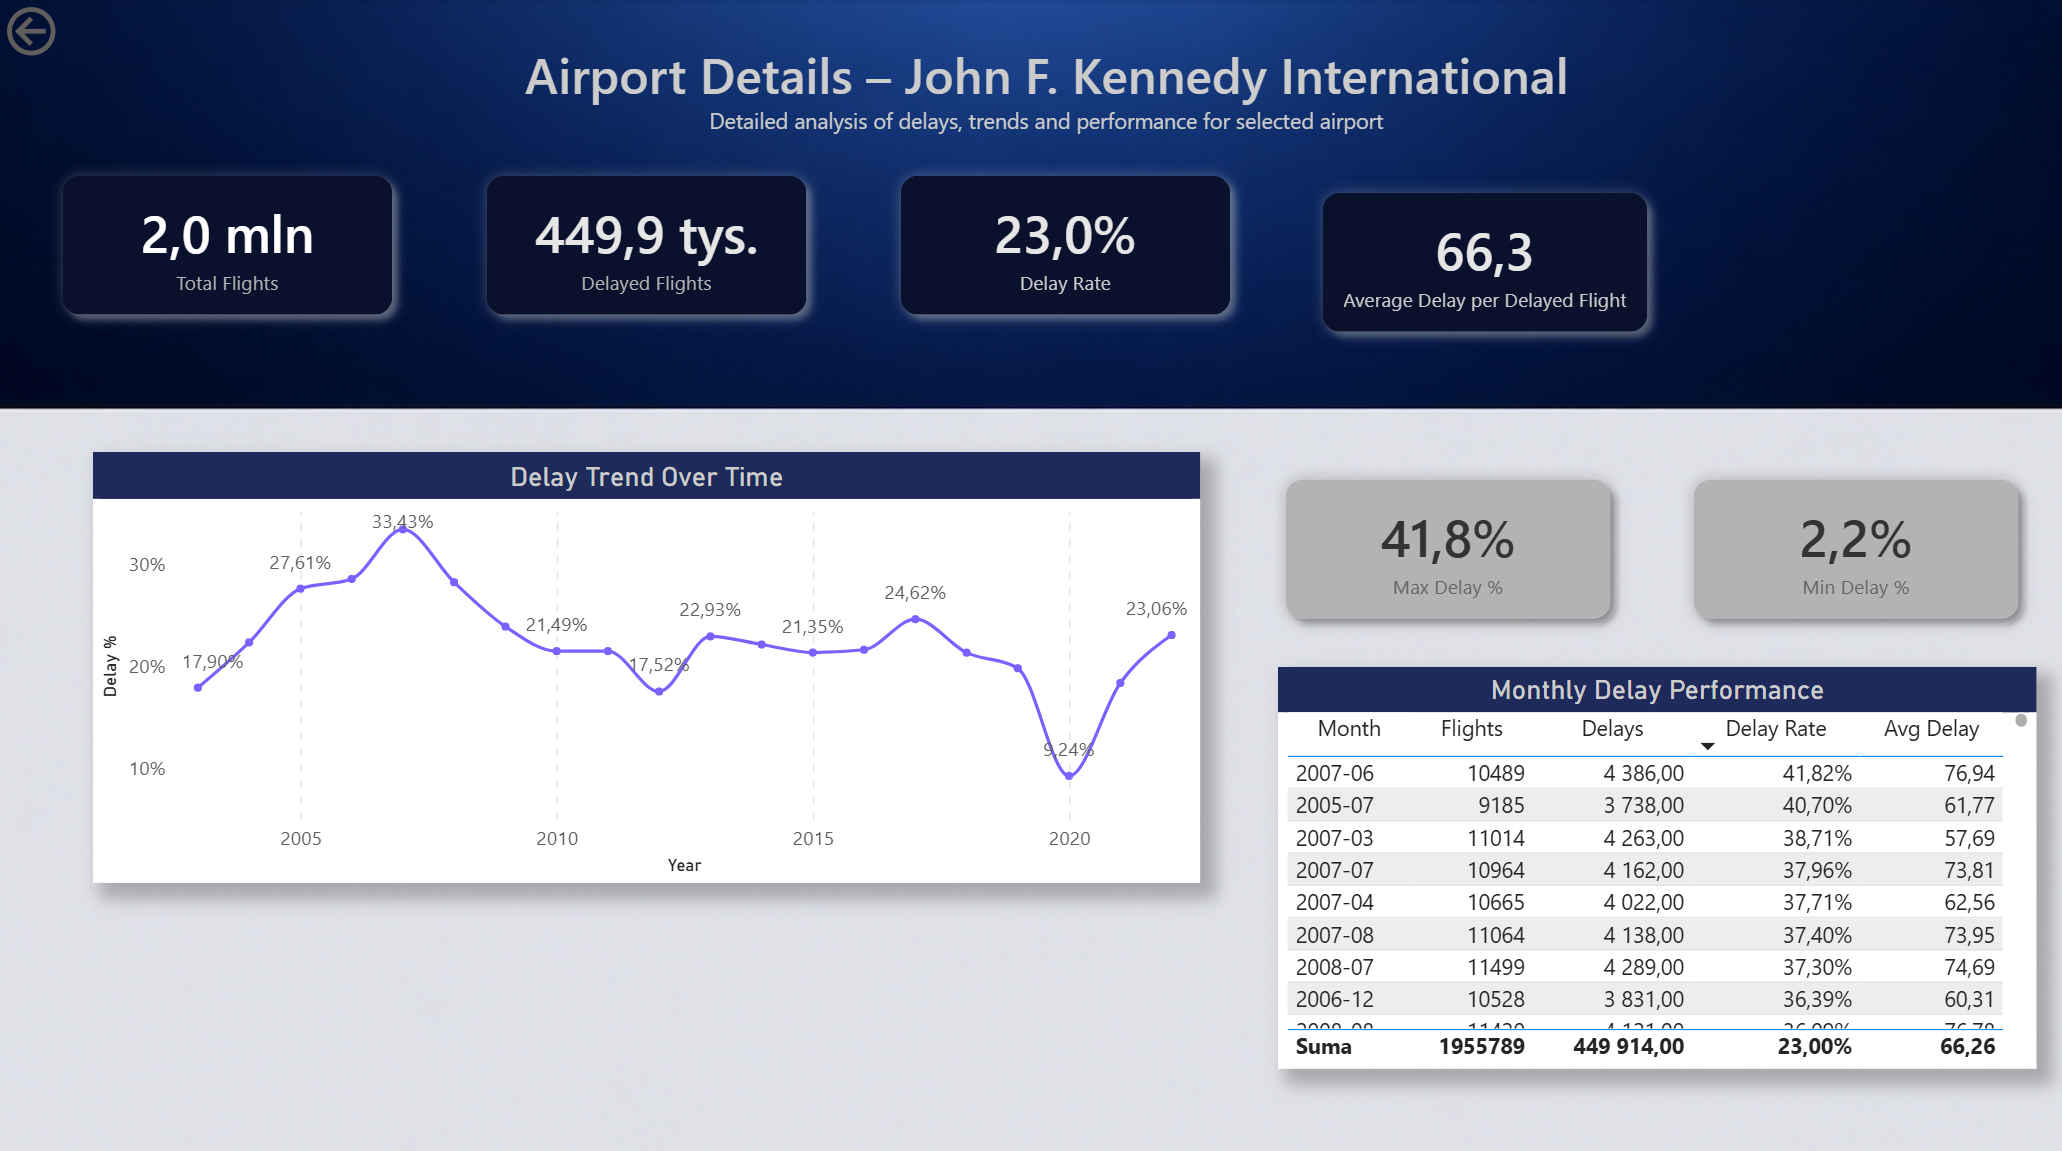

The page's visual inventory and layout, read from the dashboard file:
{"tool":"powerbi","page":{"name":"Airport Details","canvas":[1280,720],"ordinal":3},"visuals":[{"type":"actionButton","box":[0,0,100,40],"z":0},{"type":"tableEx","title":"Monthly Delay Performance","fields":{"Values":["Dim_Date.YearMonth","Miary.Total Flights","Miary.Delayed Flights","Miary.Delay %","Miary.Average Delay per Delayed Flight"]},"box":[792.3,413.8,470.4,249.2],"z":1000},{"type":"cardVisual","fields":{"Data":["Miary.Title Airport Details"]},"box":[42.5,0,1213.3,91],"z":2000},{"type":"cardVisual","fields":{"Data":["Miary.Total Flights"]},"box":[10.5,80.5,262.4,144.6],"z":3000},{"type":"cardVisual","fields":{"Data":["Miary.Delayed Flights"]},"box":[273.1,80.4,256.6,144.4],"z":4000},{"type":"cardVisual","fields":{"Data":["Miary.Delay %"]},"box":[529.6,80.4,262.1,144.4],"z":5000},{"type":"cardVisual","fields":{"Data":["Miary.Average Delay per Delayed Flight"]},"box":[791.2,91,259.1,144.6],"z":6000},{"type":"lineChart","title":"Delay Trend Over Time","fields":{"Category":["Dim_Date.Date.Odmiana.Hierarchia dat.Rok","Dim_Date.Date.Odmiana.Hierarchia dat.Kwartał","Dim_Date.Date.Odmiana.Hierarchia dat.Miesiąc","Dim_Date.Date.Odmiana.Hierarchia dat.Dzień"],"Y":["Miary.Delay %"]},"box":[58,280.5,686.3,266.5],"z":7000},{"type":"textbox","box":[416.9,61.5,464,38],"z":8000},{"type":"cardVisual","fields":{"Data":["Miary.Max Delay %"]},"box":[768.3,269,259.1,144.6],"z":9000},{"type":"cardVisual","fields":{"Data":["Miary.Min Delay %"]},"box":[1020.9,269,259.1,144.6],"z":10000}]}

Visuals, with their boxes in screenshot pixels (x1, y1, x2, y2), scaled from the page's 1280x720 canvas onto the 2062x1151 screenshot:
actionButton: (left=0, top=0, right=161, bottom=64)
"Monthly Delay Performance" tableEx: (left=1276, top=662, right=2034, bottom=1060)
cardVisual - Miary.Title Airport Details: (left=68, top=0, right=2023, bottom=145)
cardVisual - Miary.Total Flights: (left=17, top=129, right=440, bottom=360)
cardVisual - Miary.Delayed Flights: (left=440, top=129, right=853, bottom=359)
cardVisual - Miary.Delay %: (left=853, top=129, right=1275, bottom=359)
cardVisual - Miary.Average Delay per Delayed Flight: (left=1275, top=145, right=1692, bottom=377)
"Delay Trend Over Time" lineChart: (left=93, top=448, right=1199, bottom=874)
textbox: (left=672, top=98, right=1419, bottom=159)
cardVisual - Miary.Max Delay %: (left=1238, top=430, right=1655, bottom=661)
cardVisual - Miary.Min Delay %: (left=1645, top=430, right=2061, bottom=661)
